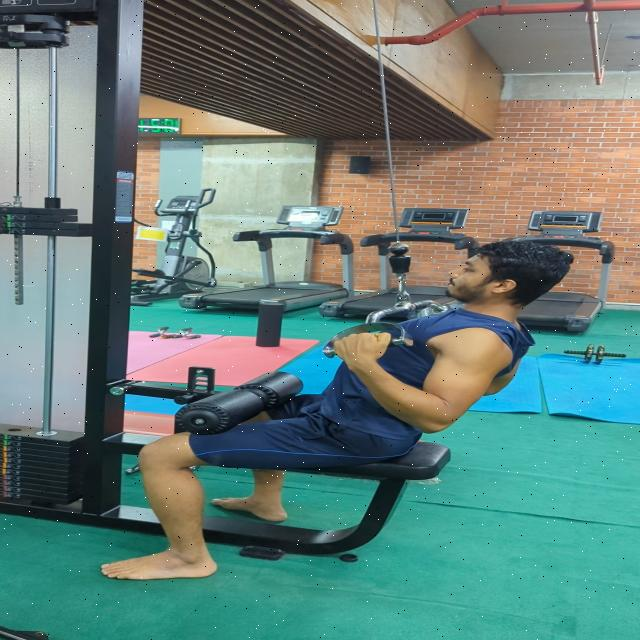Normal_LatPulldown: (54, 218, 610, 590)
